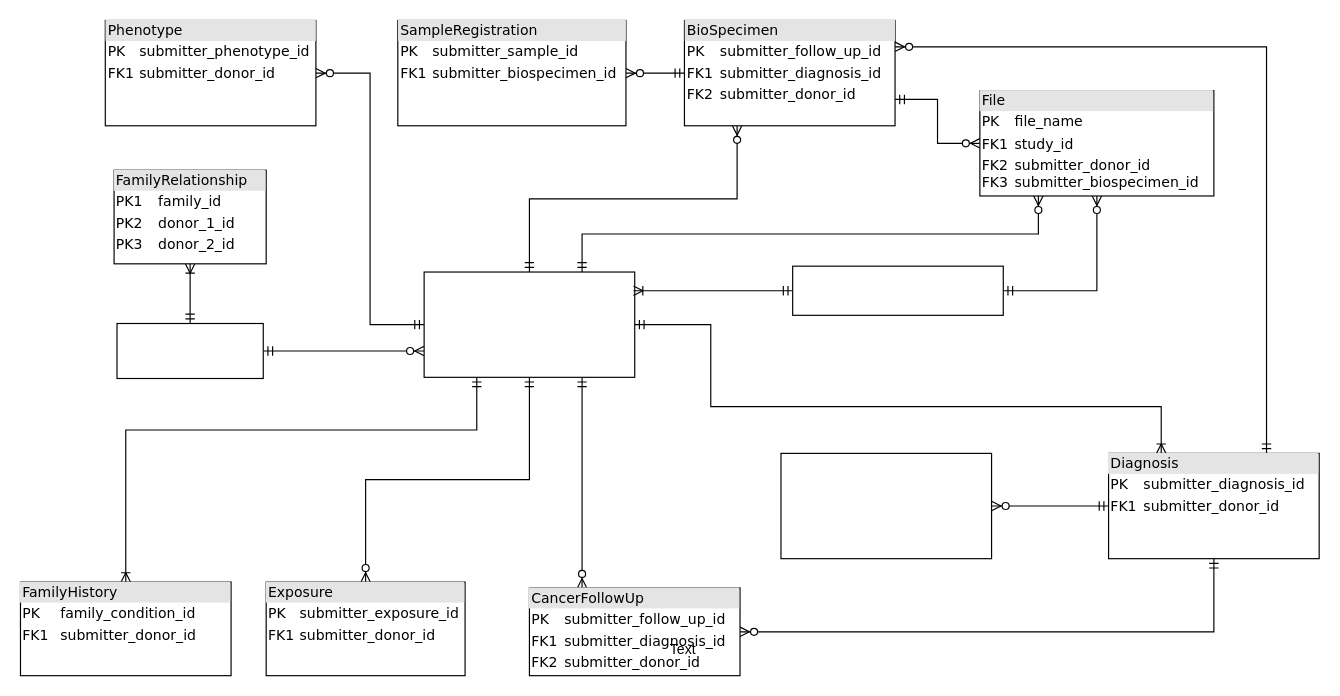
Some shapes in this 1340 by 696 pixel diagram are drawn without their labels. The box of each missing label's shape, as (x1, y1, x2, y2) in pixels:
Donor PK submitter_donor_id FK1 study_id FK2 submitter_family_id: (423, 271, 635, 377)
Family PK family_id: (116, 322, 263, 378)
Study PK study_id: (792, 265, 1003, 315)
Treatment PK submitter_treatment_id FK1 submitter_diagnosis_id: (780, 452, 992, 559)
